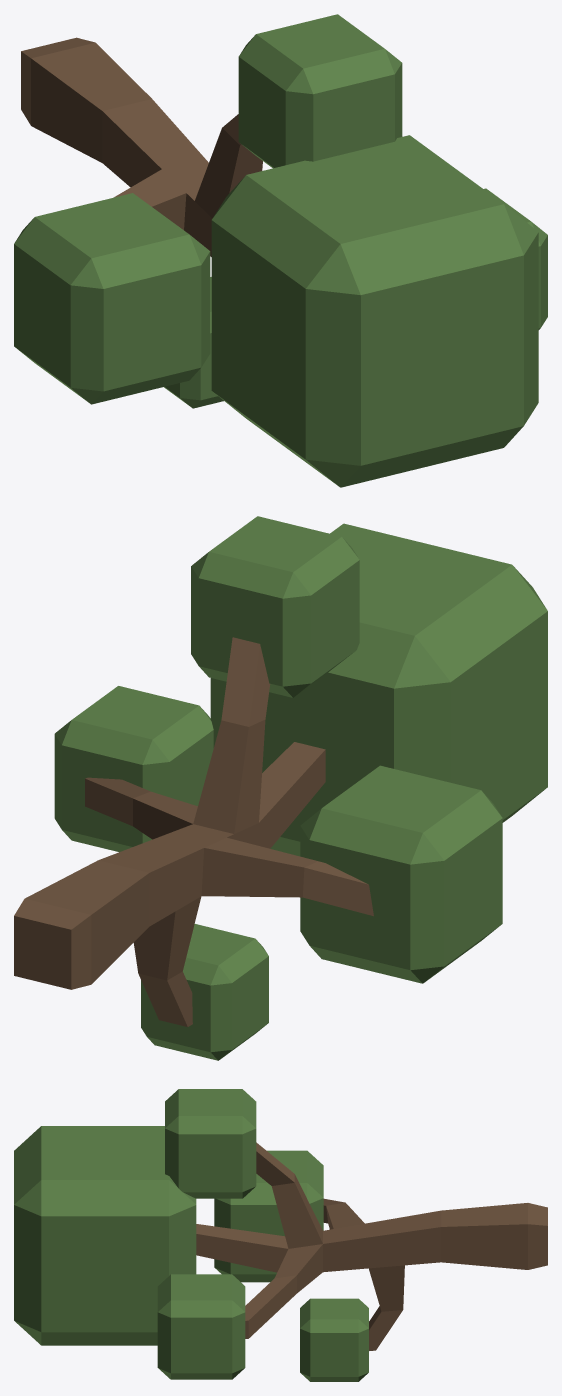
File: tree-model-detailed-28-ft.obj
The picture shows the model from 3 angles, top to bottom: view 1: azimuth 30°, elevation 25°; view 2: azimuth 150°, elevation 25°; view 3: azimuth 270°, elevation 25°; orthographic projection. The views are drawn at different scales.
Parts seen in each view (by area): view 1: tree-model-detailed-28-ft; view 2: tree-model-detailed-28-ft; view 3: tree-model-detailed-28-ft.
Part boxes in pixels (left/top/right/bottom): tree-model-detailed-28-ft: left=14, top=14, right=547, bottom=487; tree-model-detailed-28-ft: left=14, top=516, right=547, bottom=1060; tree-model-detailed-28-ft: left=14, top=1089, right=547, bottom=1381.
Size of the model in its own units: 214 by 192 by 336.
